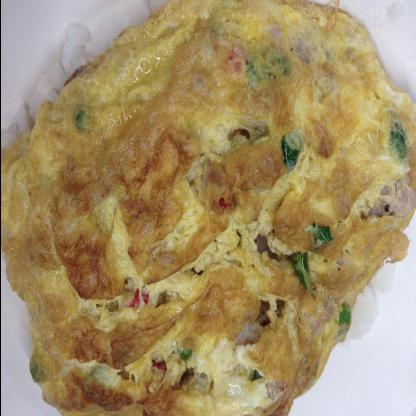Omelette: (22, 4, 408, 416)
